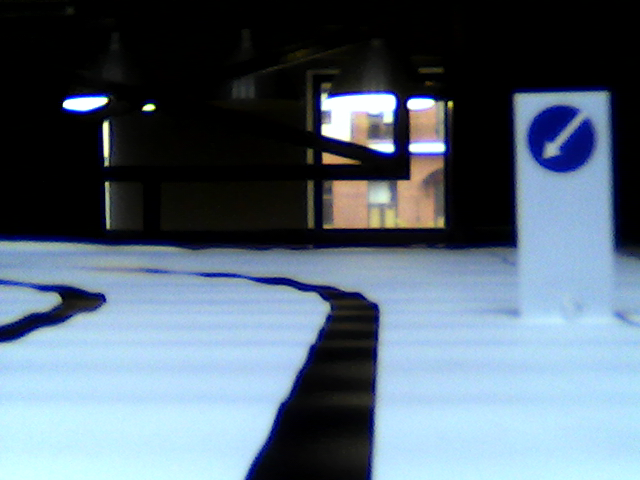prep: (526, 104, 599, 176)
